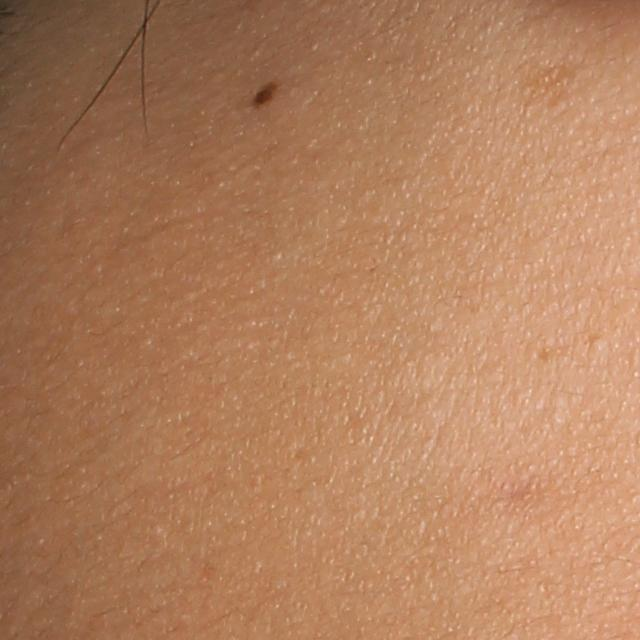comedo: (590, 333, 609, 355)
nevus: (248, 75, 282, 106)
